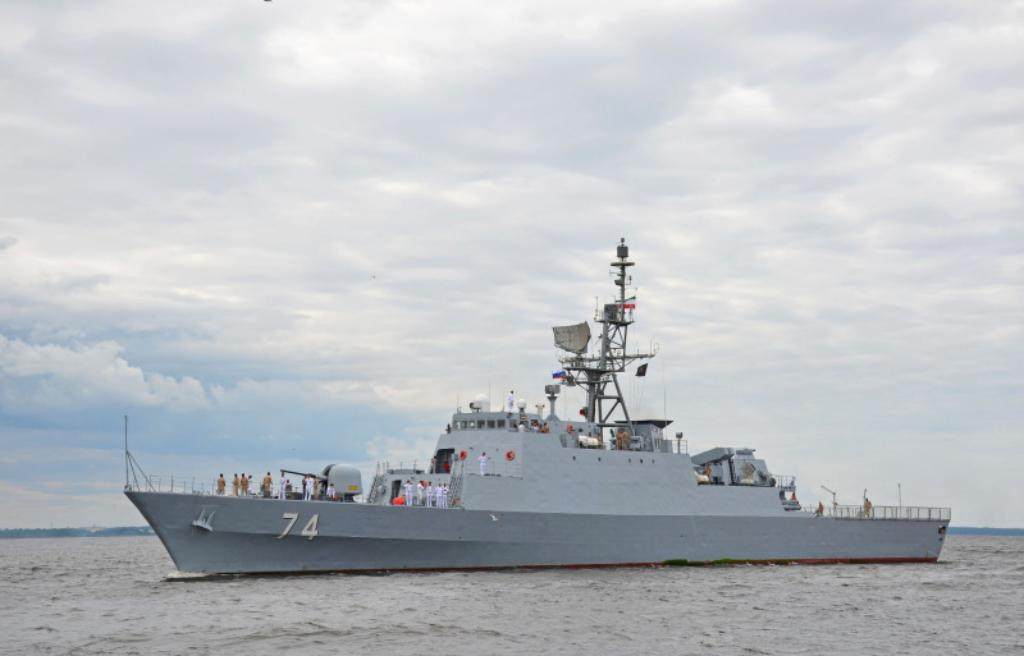Warship: (120, 236, 954, 584)
